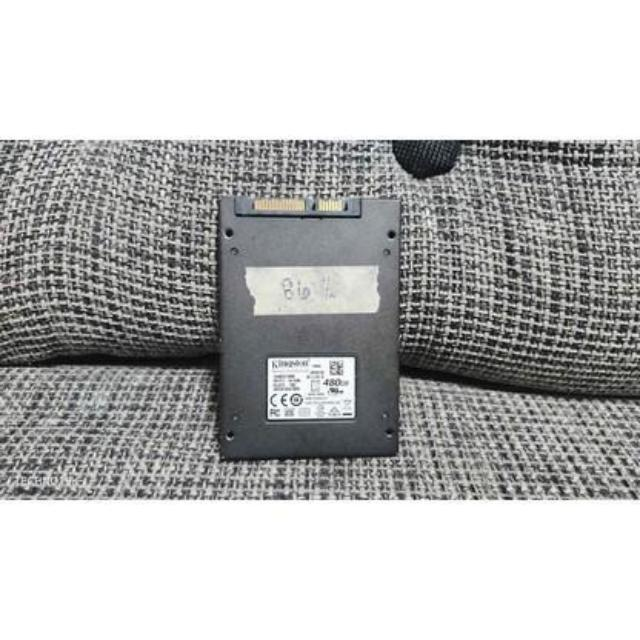DISK: (213, 185, 402, 468)
